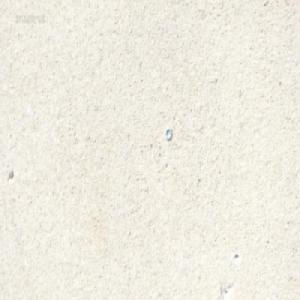Washer: (164, 126, 172, 140)
